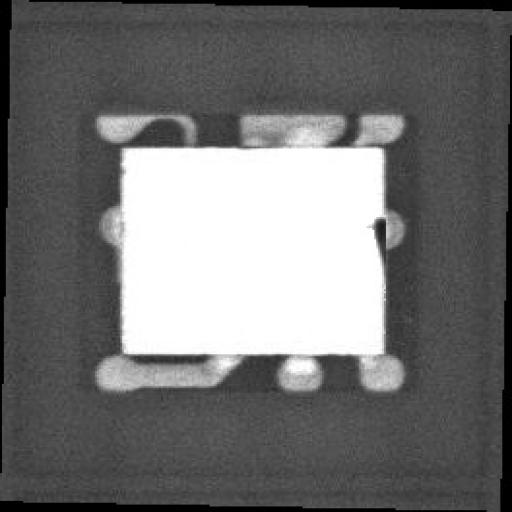DIE_BROKEN: (365, 210, 386, 260)
